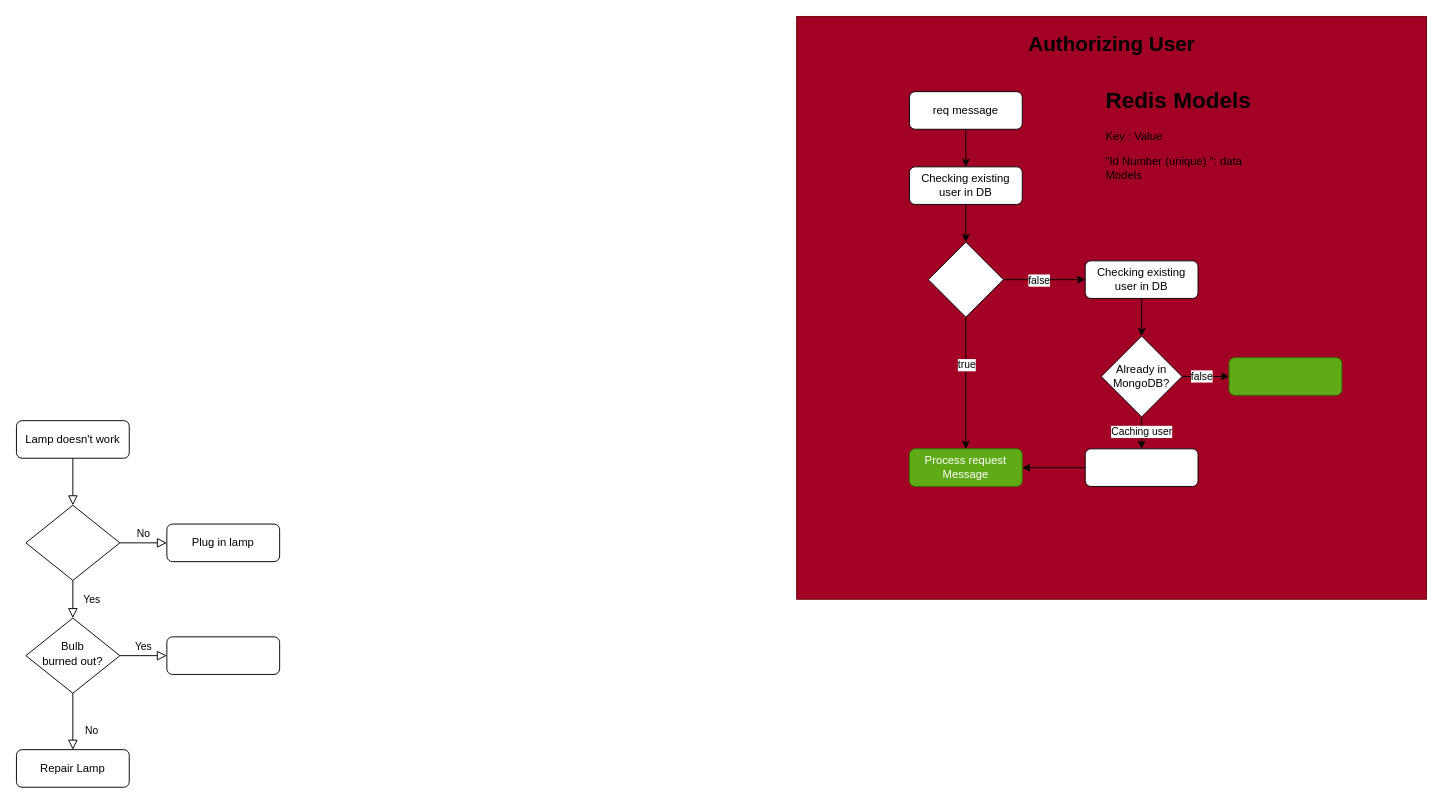
The diagram is 1443 pixels wide and 804 high, and some of its shapes have lost their labels. Here are the shapes that lost their labels. From the top down, the box of each, then its label:
(927, 241, 1003, 317): Already in Redis ?
(1228, 357, 1342, 395): Response : send register form
(1084, 448, 1198, 486): Save to Redis DB
(25, 504, 120, 580): Lamp plugged in?
(166, 636, 280, 674): Replace Bulb
